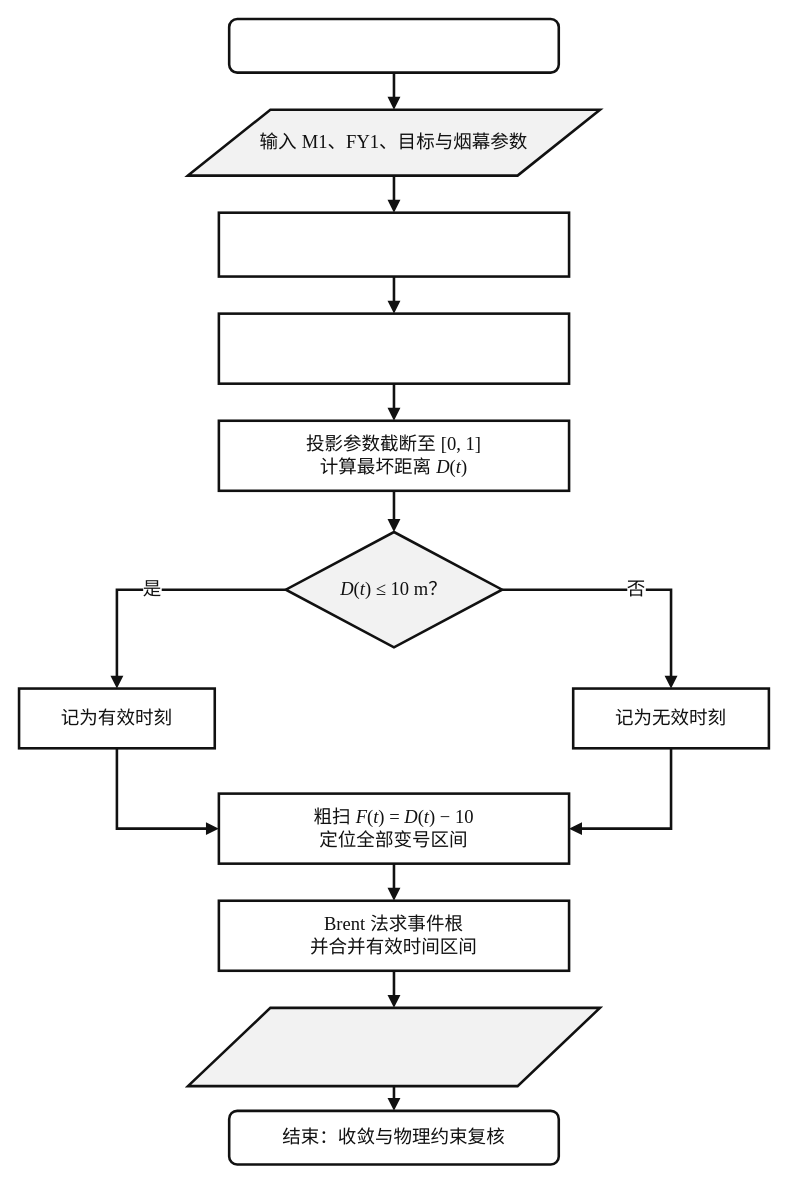
Some shapes in this 788 by 1183 pixel diagram are drawn without their labels. Each missing label, with the centre of its shape:
在云团有效期内构造 导弹—圆柱目标边界视线段: [393,348]
开始：计算给定策略: [393,45]
解析计算导弹、无人机、弹体与云团轨迹: [393,244]
输出投放点、起爆点 有效区间与总时长: [393,1046]
